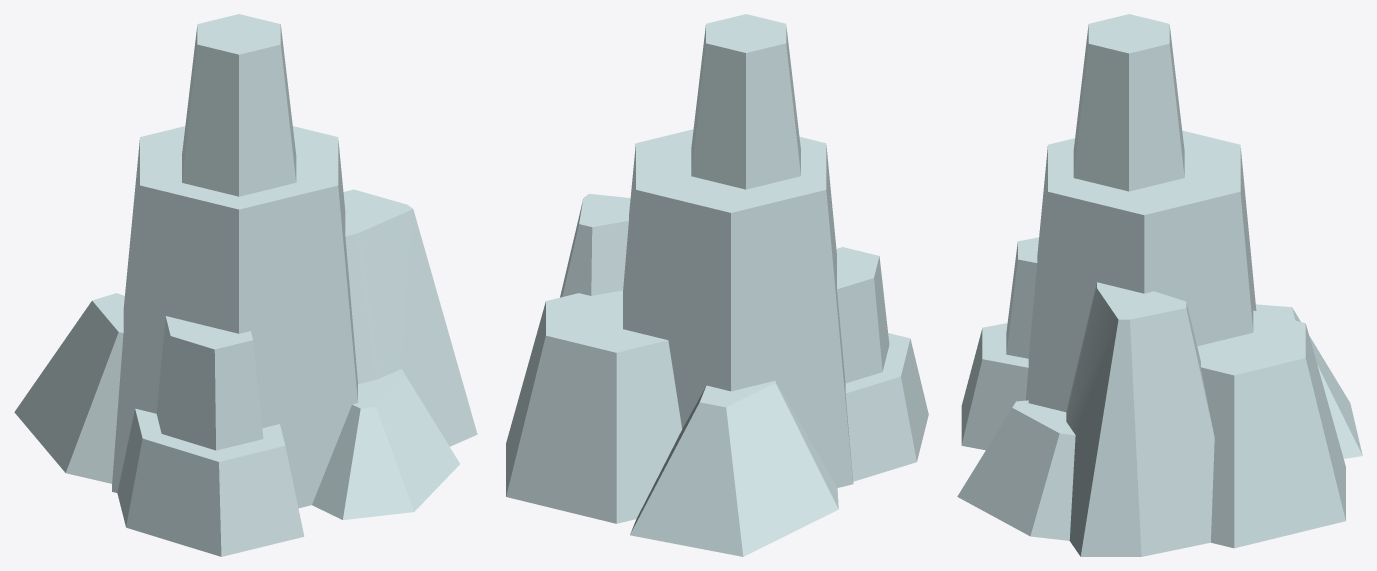
The model's file is stone_tallB.glb.
The picture shows the model from 3 angles, left to right: view 1: azimuth 30°, elevation 25°; view 2: azimuth 150°, elevation 25°; view 3: azimuth 270°, elevation 25°; orthographic projection. The views are drawn at different scales.
Visible parts, largest first — view 1: stone_tallB; view 2: stone_tallB; view 3: stone_tallB.
Boxes of the visible parts, left/top/right/bottom form: stone_tallB: left=14, top=14, right=477, bottom=556; stone_tallB: left=506, top=14, right=928, bottom=556; stone_tallB: left=957, top=14, right=1362, bottom=556.
Size of the model in its own units: 0.7648 by 0.8838 by 0.77.
Materials: 1 (1 with a texture image).
